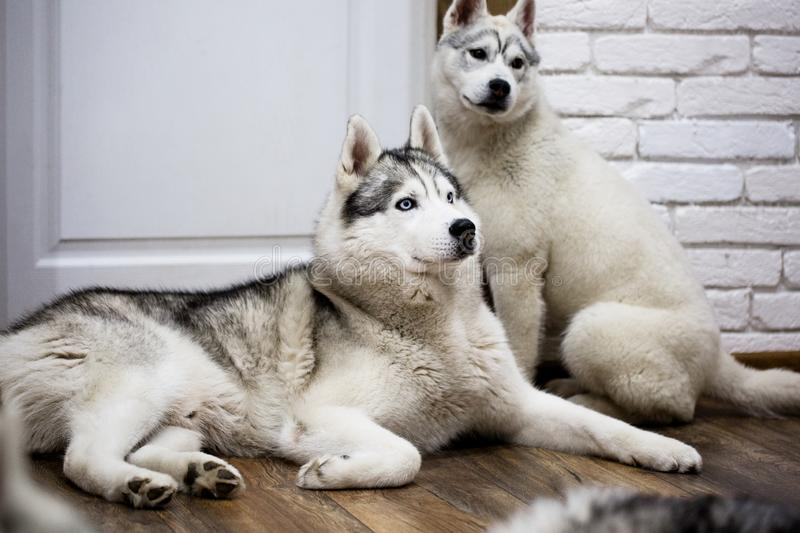husky: (289, 84, 513, 320)
